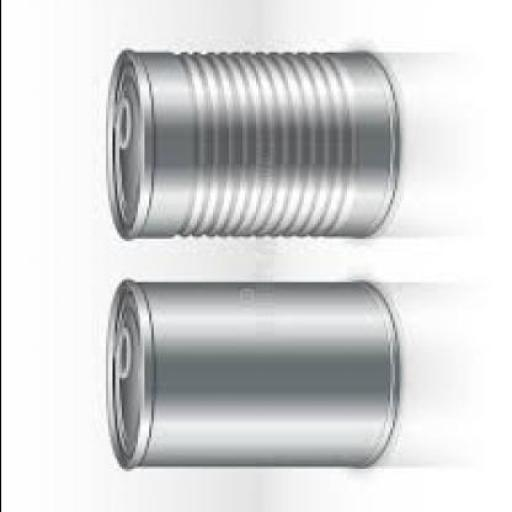metal: (103, 275, 398, 467), (102, 47, 396, 237)
